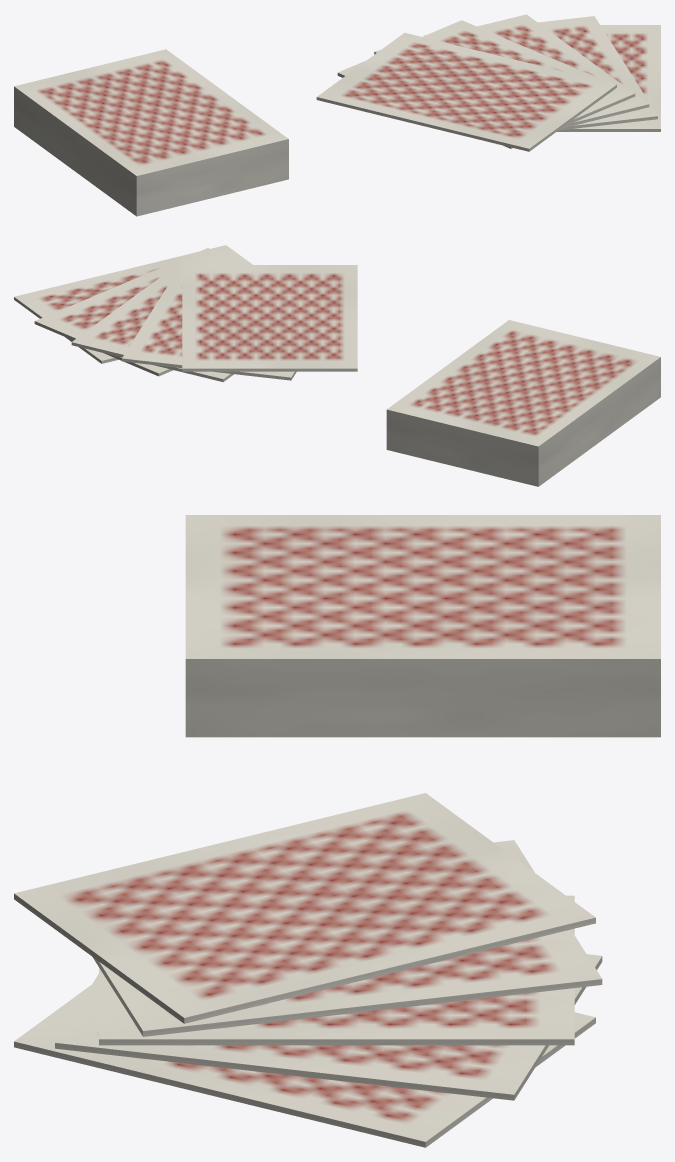
File: cards_prison.fbx
3 renders of one model, top to bottom at view 1: azimuth 30°, elevation 25°; view 2: azimuth 150°, elevation 25°; view 3: azimuth 270°, elevation 25°, orthographic. The views are drawn at different scales.
Visible parts, largest first — view 1: cards_prison; view 2: cards_prison; view 3: cards_prison.
Part boxes in pixels (x1,y1,x2,y2): cards_prison: (14,14,660,216); cards_prison: (14,245,660,486); cards_prison: (14,515,660,1147).
Size of the model in its own units: 0.2428 by 0.016 by 0.1198.
1 material, 1 textured.
